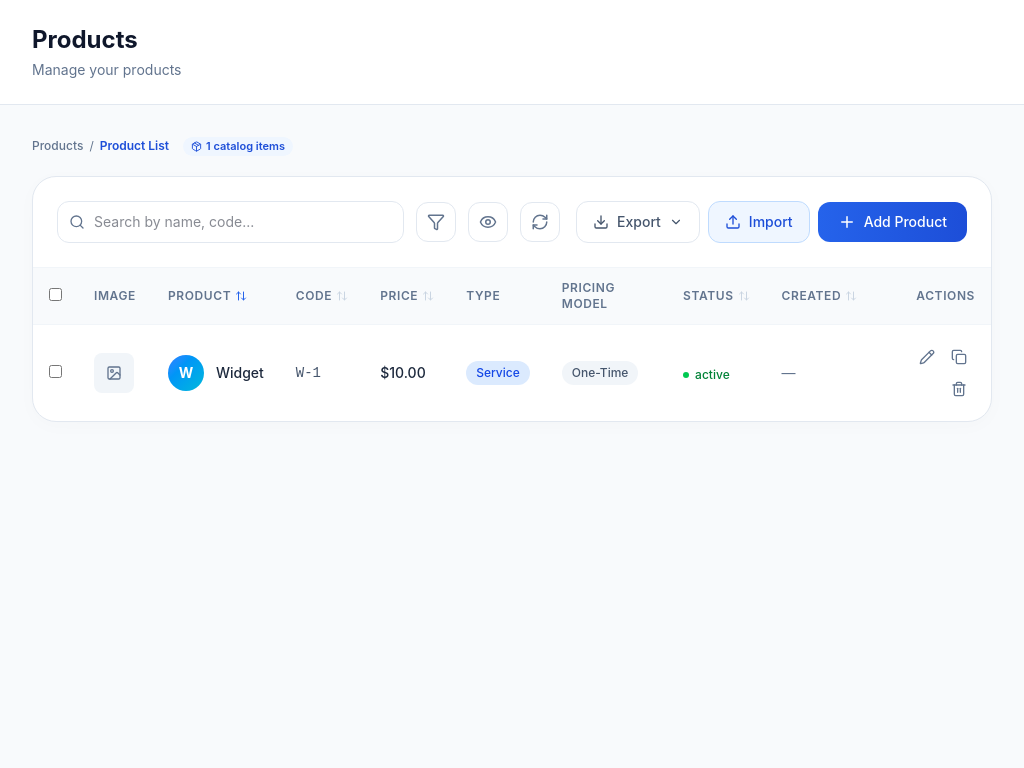
Test: Product List dialogs › Import opens the import wizard and its Cancel closes it
Expected: the button named "Edit Widget" is shown, [911,341,943,373]
Click the button "Import": coordinates (759, 222) [708,201,810,243]
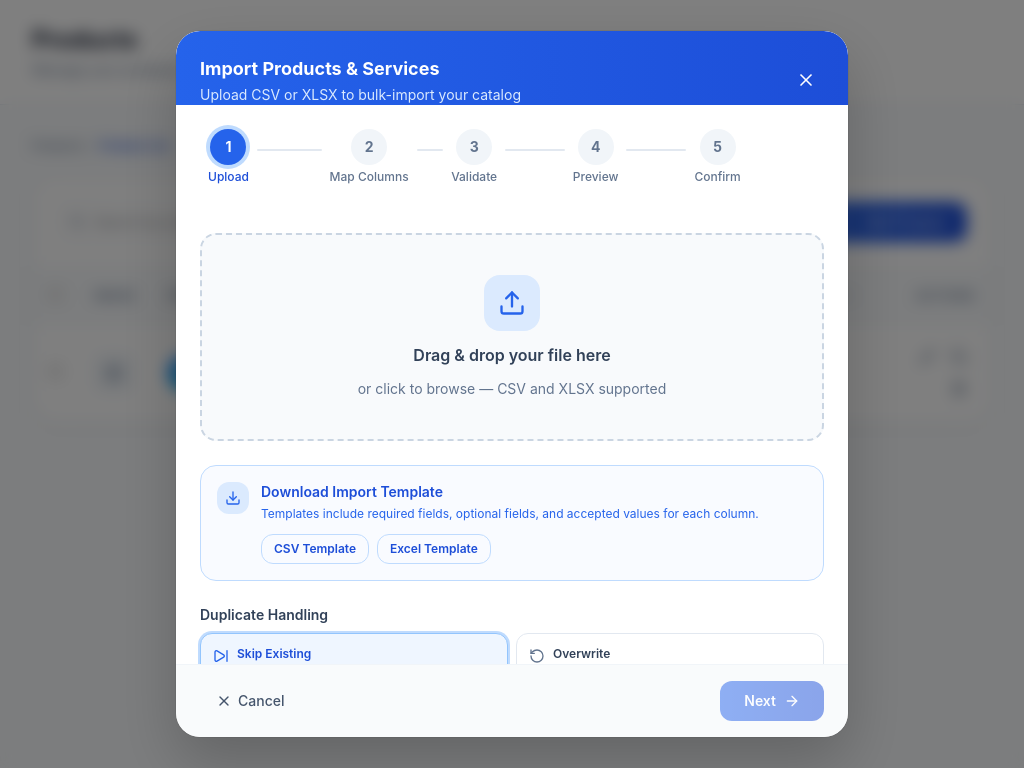
Click the button "Cancel": coordinates (250, 701) [200,683,300,719]
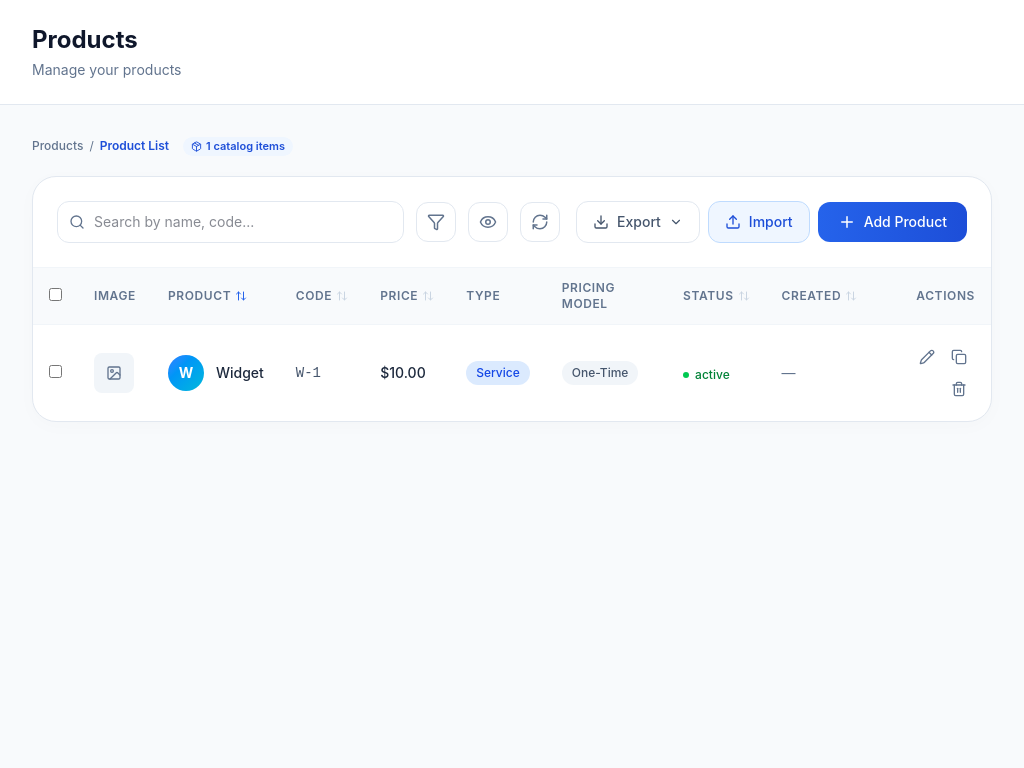
Now the dialog is gone
